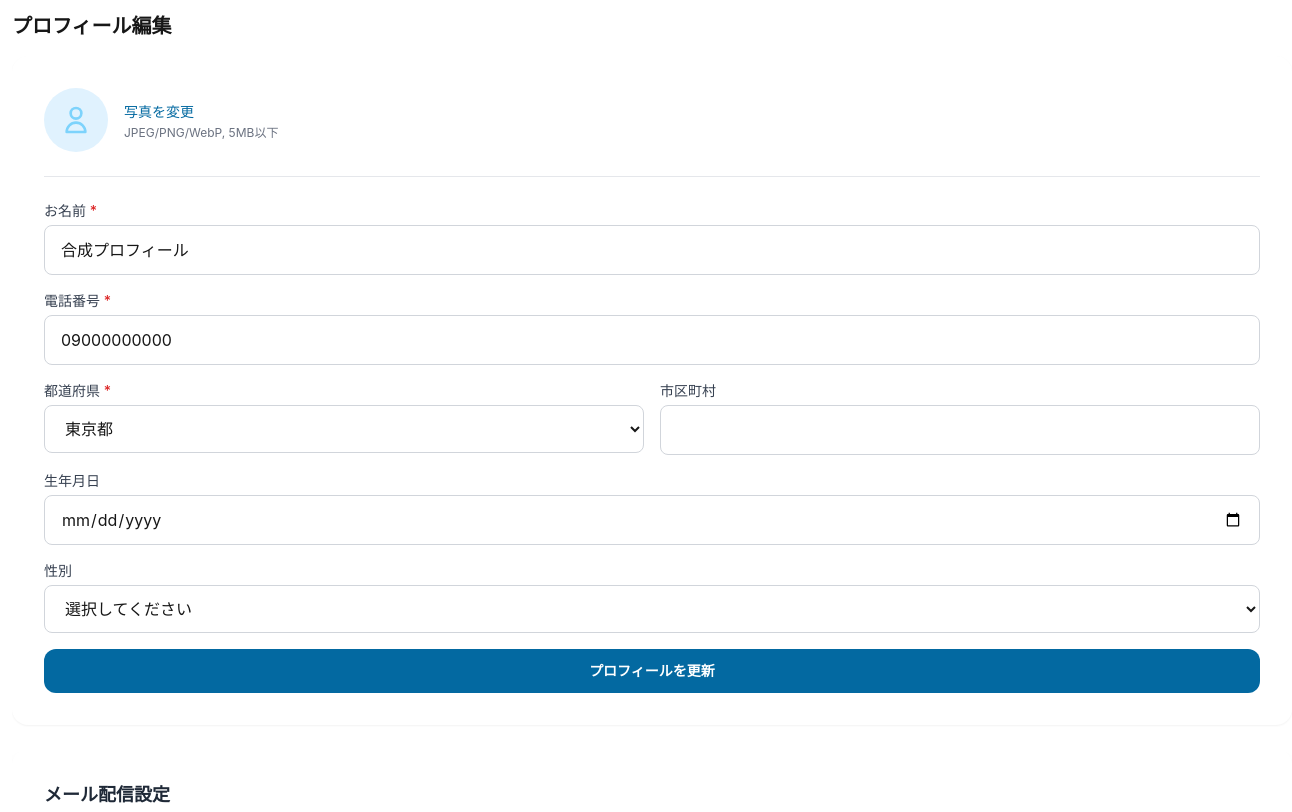
Test: HTTPと業務成功の両方を確認して未保存状態を解除する
Replace the text in the field labelled "お名前 *" with "保存した合成入力": point(652, 250) top-left (44, 225), bottom-right (1260, 275)
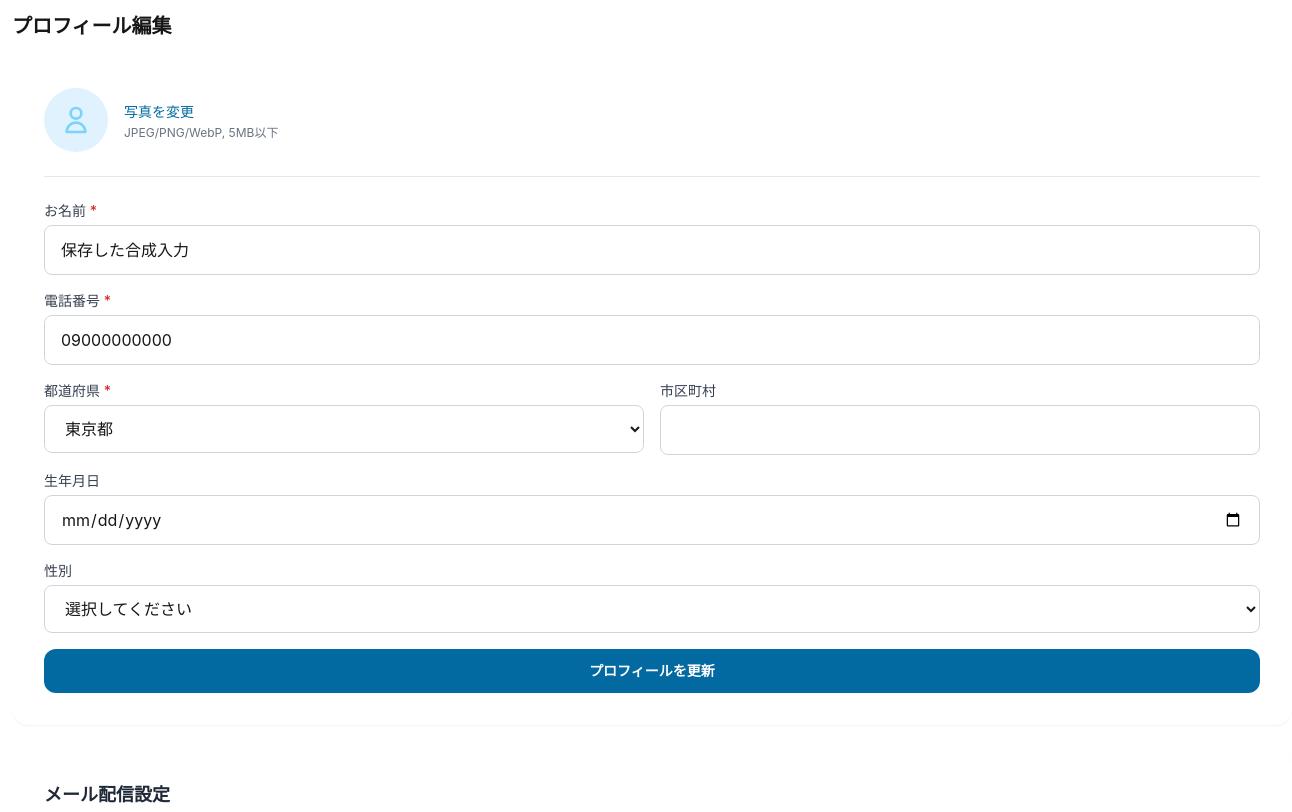
Click the button "プロフィールを更新": point(652, 671) top-left (44, 649), bottom-right (1260, 693)
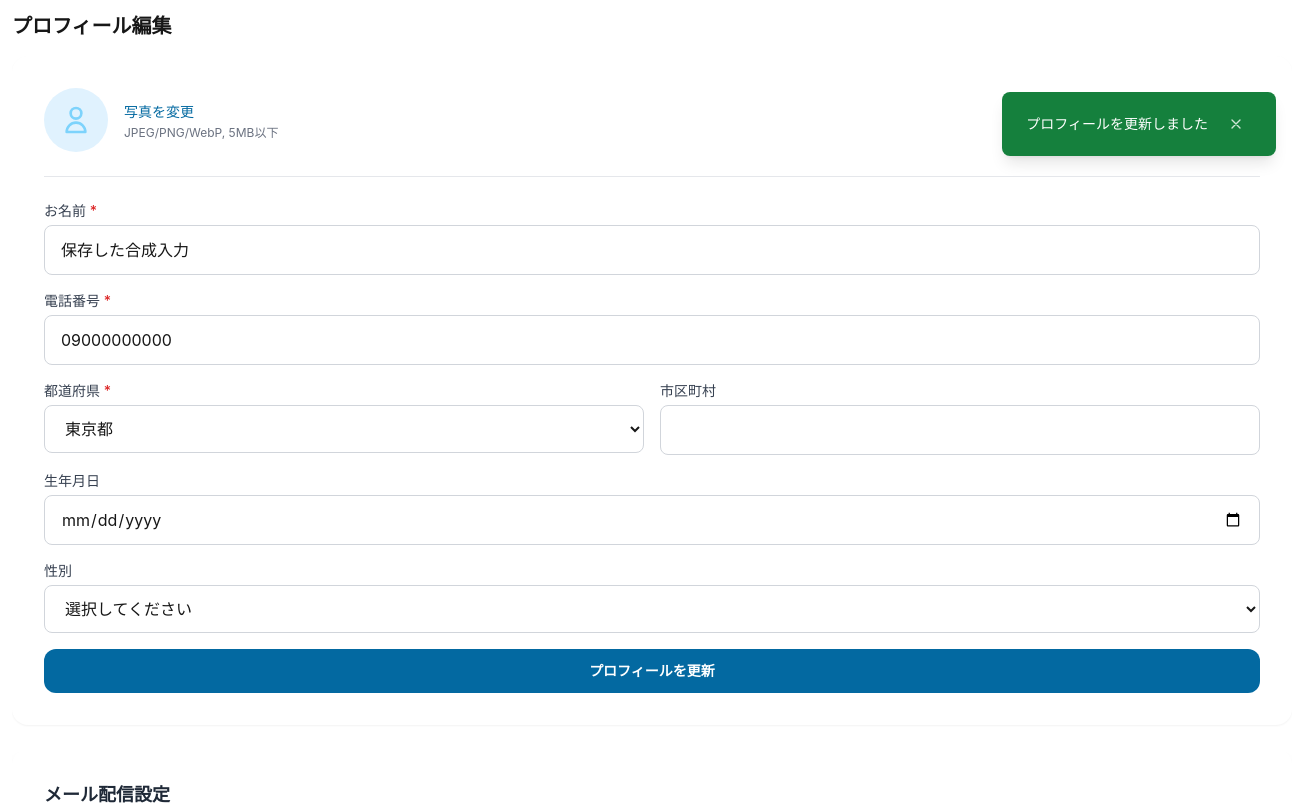
Check: the text "プロフィールを更新しました" is shown, box top-left (1026, 114), bottom-right (1208, 134)
